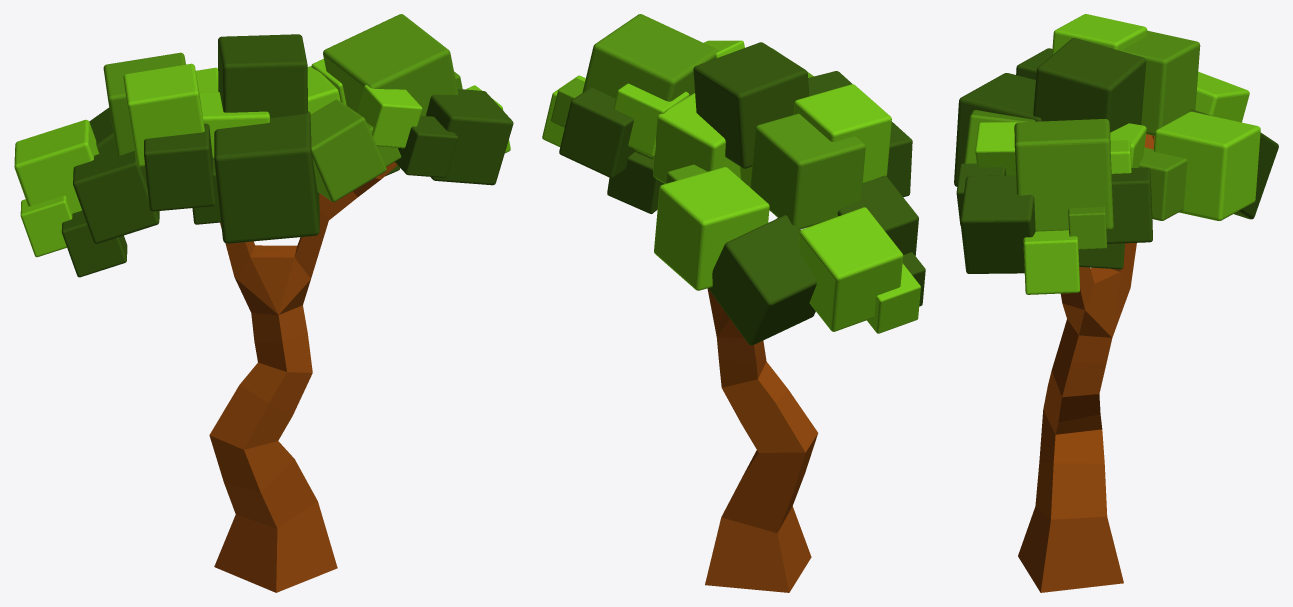
File: Large Cube Tree.fbx
3 views of the same model, side by side, from view 1: azimuth 30°, elevation 25°; view 2: azimuth 150°, elevation 25°; view 3: azimuth 270°, elevation 25° (orthographic).
Parts seen in each view (by area): view 1: Cube; view 2: Cube; view 3: Cube.
Part boxes in pixels (x1,y1,x2,y2): Cube: (14,14,513,592); Cube: (542,14,925,592); Cube: (954,14,1278,592).
Size of what is drawn, in the model's own units: 681 by 795 by 459.
